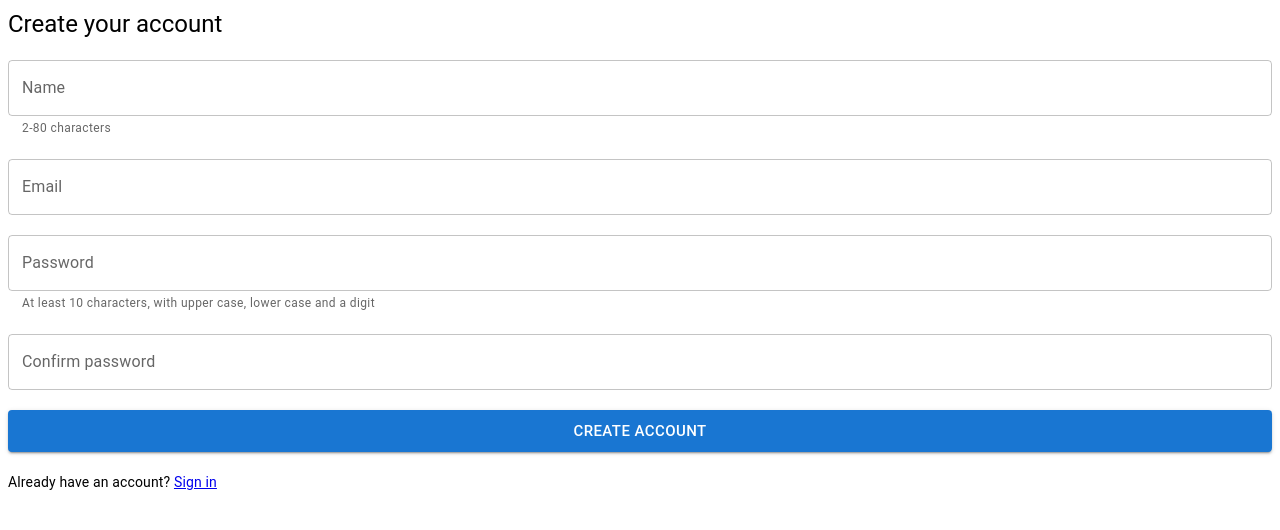
RegisterForm › maps a 400 from the server onto the individual fields
The image size is (1280, 530).
Type "Ada Lovelace" into the field labelled "Name" at [640, 88], box [8, 60, 1272, 116]
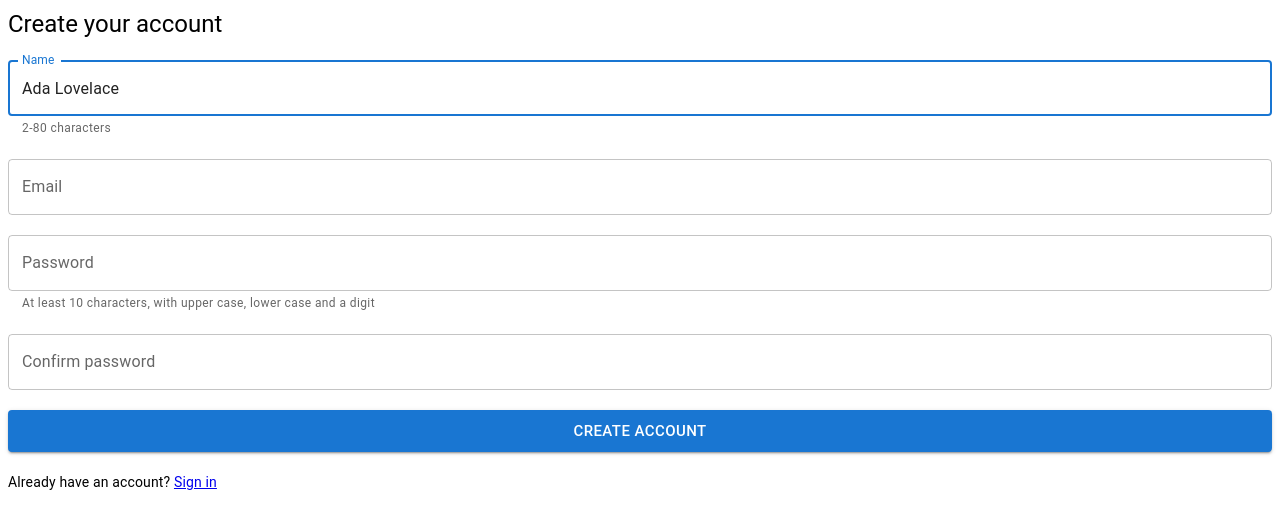
Type "ada@example.com" into the field labelled "Email" at [640, 187], box [8, 159, 1272, 215]
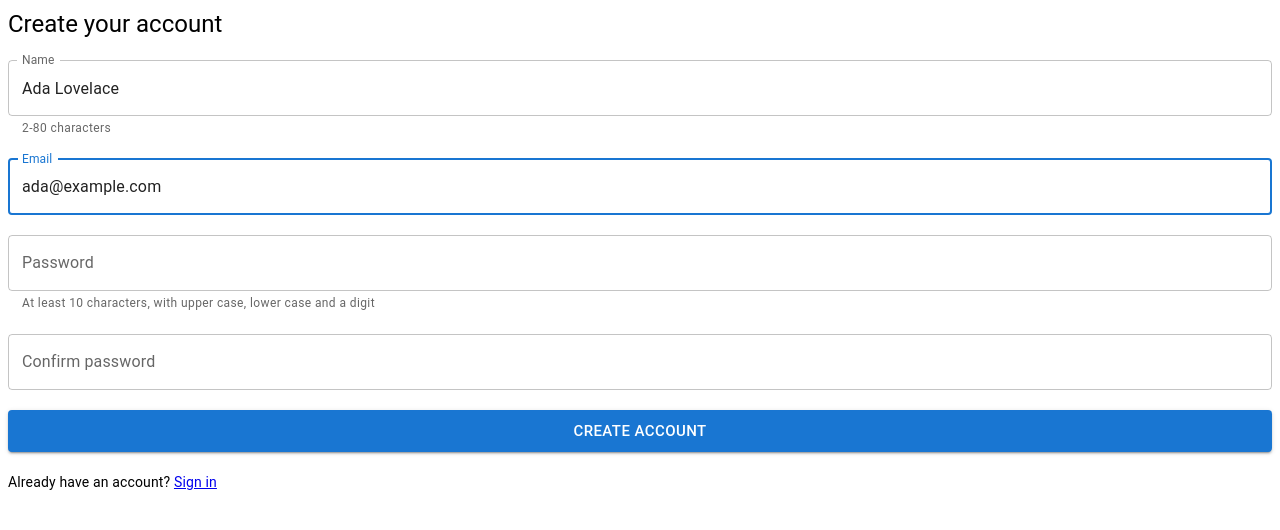
Type "Str0ngPassword" into the password field labelled "Password" at [640, 263], box [8, 235, 1272, 291]
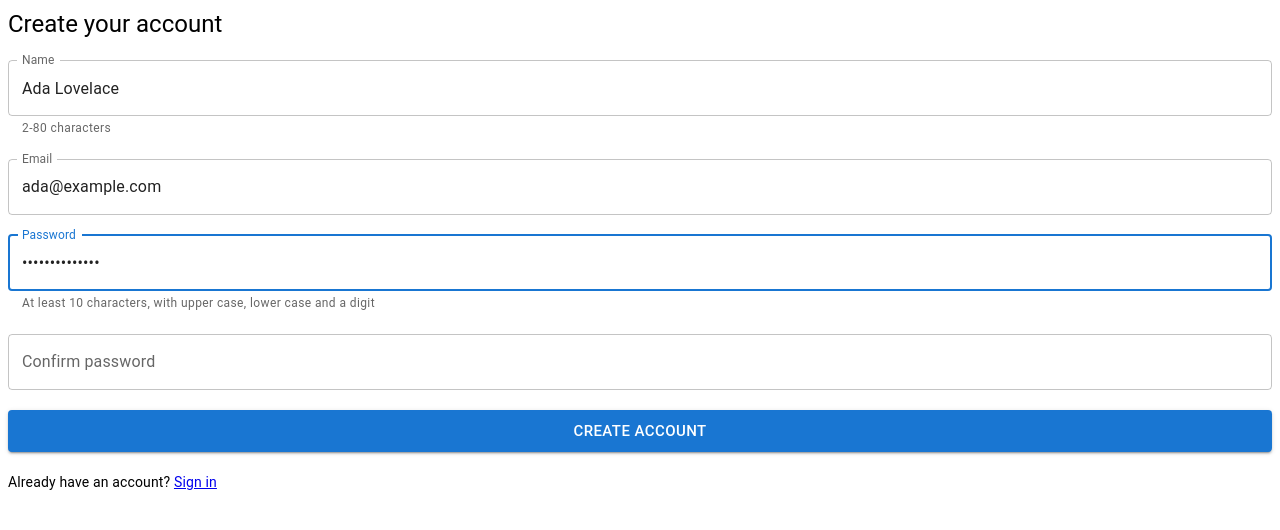
Type "Str0ngPassword" into the password field labelled "Confirm password" at [640, 362], box [8, 334, 1272, 390]
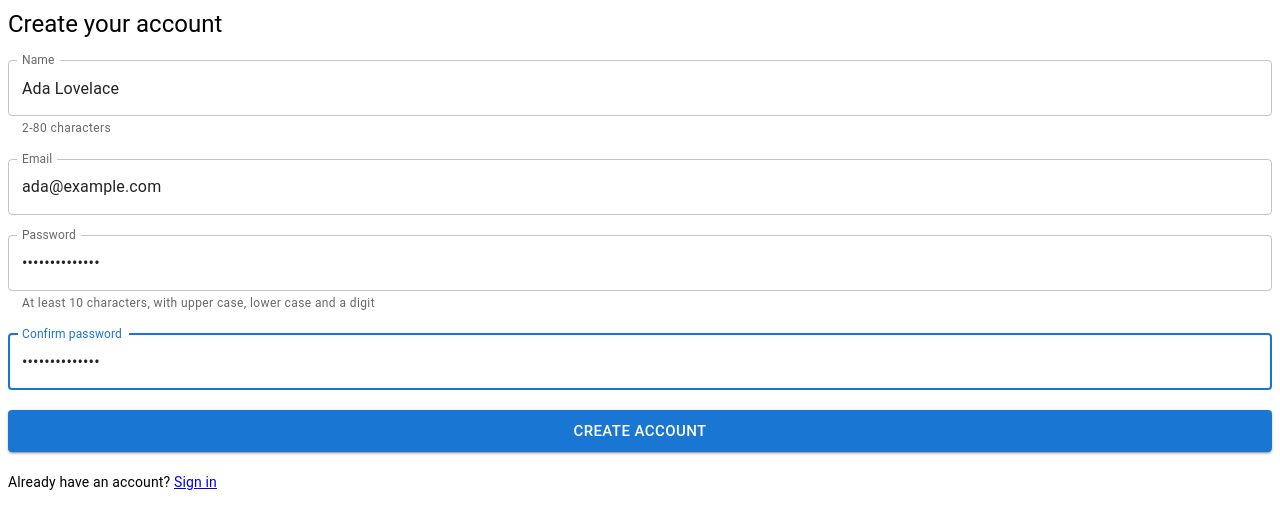
Click the button "Create account" at [640, 431], box [8, 410, 1272, 452]
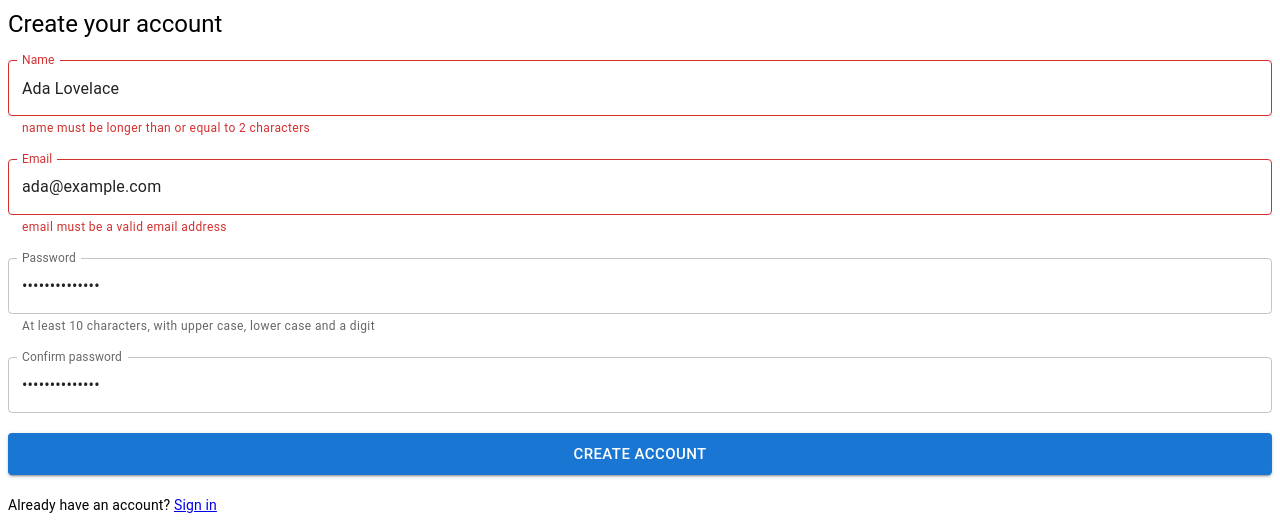
Expected: the text "email must be a valid email address" is shown, [22, 220, 227, 234]
Expected: the text "name must be longer than or equal to 2 characters" is shown, [22, 121, 310, 135]
